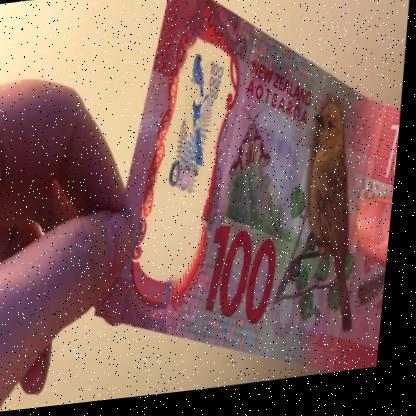100B: (165, 53, 235, 210)
